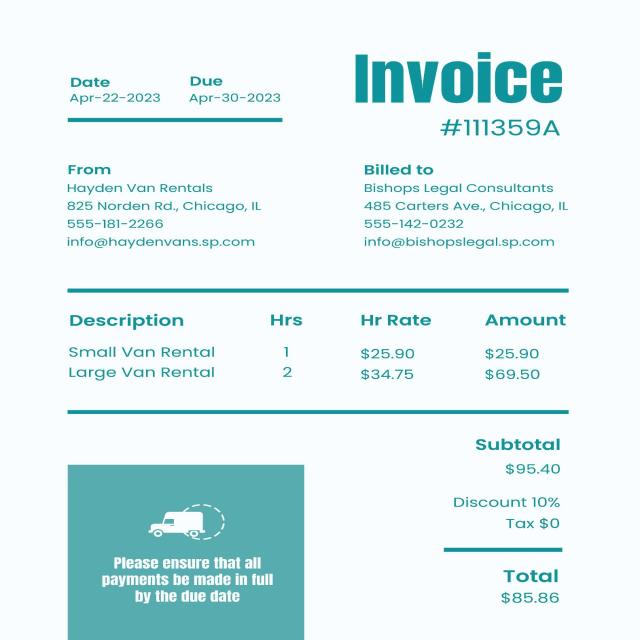paragraph: (53, 160, 268, 254), (350, 164, 585, 250), (416, 431, 578, 534), (347, 54, 563, 109), (90, 550, 280, 610), (57, 72, 286, 115), (487, 566, 568, 614), (436, 114, 573, 142)
table: (67, 286, 571, 408)
